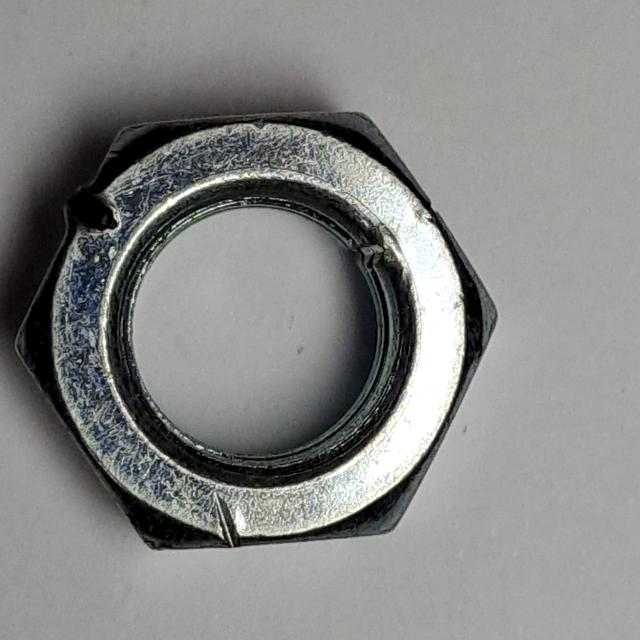Scratches: (6, 94, 505, 564)
